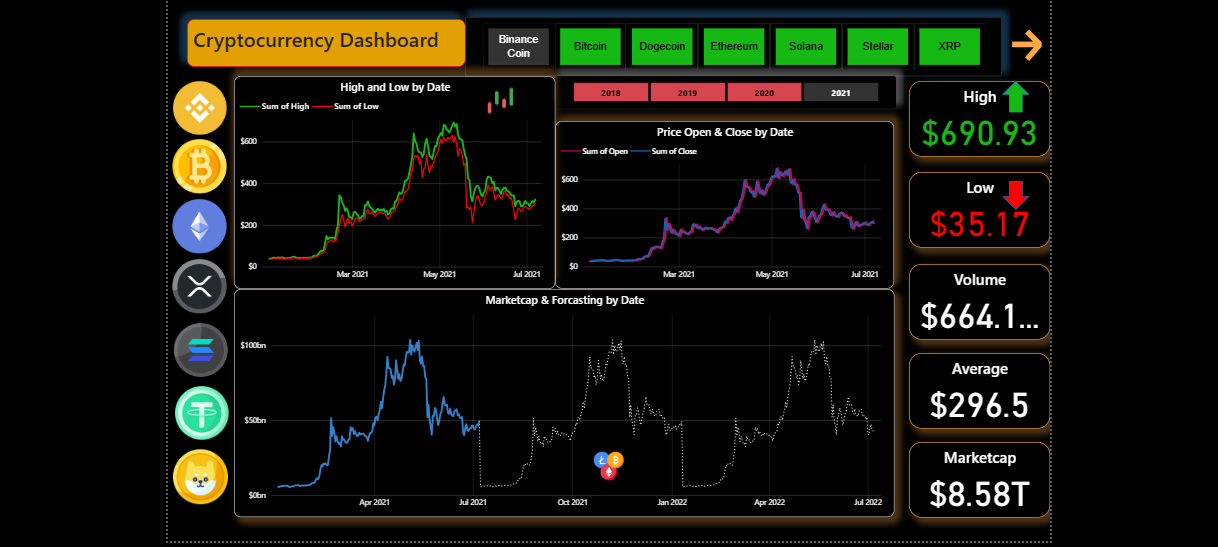

The page's visual inventory and layout, read from the dashboard file:
{"tool":"powerbi","page":{"name":"Overview","canvas":[1400,860],"ordinal":0},"visuals":[{"type":"slicer","fields":{"Values":["CryptoDataSet.Name"]},"box":[472,28,852,94],"z":0},{"type":"slicer","fields":{"Values":["CryptoDataSet.Year"]},"box":[614.1,122.2,541.1,50.8],"z":1000},{"type":"card","title":"High","fields":{"Values":["Max(CryptoDataSet.High)"]},"box":[1176.3,129.8,223.7,119.5],"z":2000},{"type":"card","title":"Average","fields":{"Values":["Avg(CryptoDataSet.Average)"]},"box":[1176.3,561.7,223.7,119.5],"z":3000},{"type":"card","title":"Low","fields":{"Values":["Min(CryptoDataSet.Low)"]},"box":[1176.3,274.9,223.7,119.5],"z":4000},{"type":"card","title":"Volume","fields":{"Values":["Sum(CryptoDataSet.Volume)"]},"box":[1176.3,420,223.7,119.5],"z":5000},{"type":"actionButton","box":[1323.3,45,76.7,58.3],"z":6000},{"type":"card","title":"Marketcap","fields":{"Values":["Sum(CryptoDataSet.Marketcap)"]},"box":[1176.3,703.4,223.7,119.5],"z":7000},{"type":"lineChart","title":"High and Low by Date","fields":{"Category":["CryptoDataSet.Date"],"Y":["Sum(CryptoDataSet.High)","Sum(CryptoDataSet.Low)"]},"box":[104,122,510,338],"z":8000},{"type":"lineChart","title":"Price Open & Close by Date","fields":{"Category":["CryptoDataSet.Date"],"Y":["Sum(CryptoDataSet.Open)","Sum(CryptoDataSet.Close)"]},"box":[614,194,538,266],"z":9000},{"type":"shape","box":[1324,288,44,46],"z":10000},{"type":"shape","box":[1324,130,44,50],"z":11000},{"type":"textbox","box":[30,32,442,76],"z":12000},{"type":"lineChart","title":"Marketcap & Forcasting by Date","fields":{"Category":["CryptoDataSet.Date"],"Y":["Sum(CryptoDataSet.Marketcap)"]},"box":[104,460,1048,362],"z":13000},{"type":"image","box":[494,134,68,56],"z":14000},{"type":"image","box":[666,706,66,70],"z":15000},{"type":"image","box":[0,216.8,100.7,95.6],"z":16000},{"type":"image","box":[0,124.6,100,95],"z":17000},{"type":"image","box":[0,312.4,100.7,95.6],"z":18000},{"type":"image","box":[0,408,100.7,95.6],"z":19000},{"type":"image","box":[0,502.5,103.8,107.5],"z":20000},{"type":"image","box":[2.5,610,100,95],"z":21000},{"type":"image","box":[2,706,100,104],"z":22000}]}

Visuals, with their boxes on the page's 1400x860 design canvas (x1, y1, x2, y2). These are canvas units, not pixel positions in the 1218x547 screenshot, which may show the page scaled, cropped or inside an application window:
slicer - CryptoDataSet.Name: [left=472, top=28, right=1324, bottom=122]
slicer - CryptoDataSet.Year: [left=614, top=122, right=1155, bottom=173]
"High" card: [left=1176, top=130, right=1400, bottom=249]
"Average" card: [left=1176, top=562, right=1400, bottom=681]
"Low" card: [left=1176, top=275, right=1400, bottom=394]
"Volume" card: [left=1176, top=420, right=1400, bottom=540]
actionButton: [left=1323, top=45, right=1400, bottom=103]
"Marketcap" card: [left=1176, top=703, right=1400, bottom=823]
"High and Low by Date" lineChart: [left=104, top=122, right=614, bottom=460]
"Price Open & Close by Date" lineChart: [left=614, top=194, right=1152, bottom=460]
shape: [left=1324, top=288, right=1368, bottom=334]
shape: [left=1324, top=130, right=1368, bottom=180]
textbox: [left=30, top=32, right=472, bottom=108]
"Marketcap & Forcasting by Date" lineChart: [left=104, top=460, right=1152, bottom=822]
image: [left=494, top=134, right=562, bottom=190]
image: [left=666, top=706, right=732, bottom=776]
image: [left=0, top=217, right=101, bottom=312]
image: [left=0, top=125, right=100, bottom=220]
image: [left=0, top=312, right=101, bottom=408]
image: [left=0, top=408, right=101, bottom=504]
image: [left=0, top=502, right=104, bottom=610]
image: [left=2, top=610, right=102, bottom=705]
image: [left=2, top=706, right=102, bottom=810]
